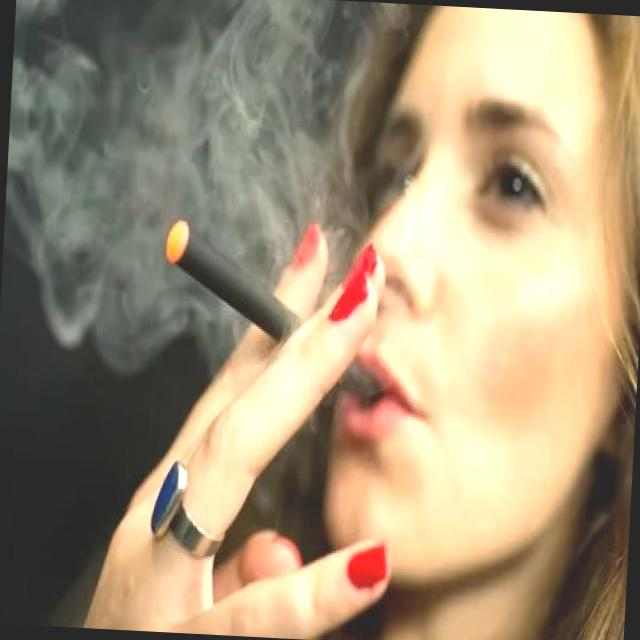cigarette: (152, 210, 390, 412)
